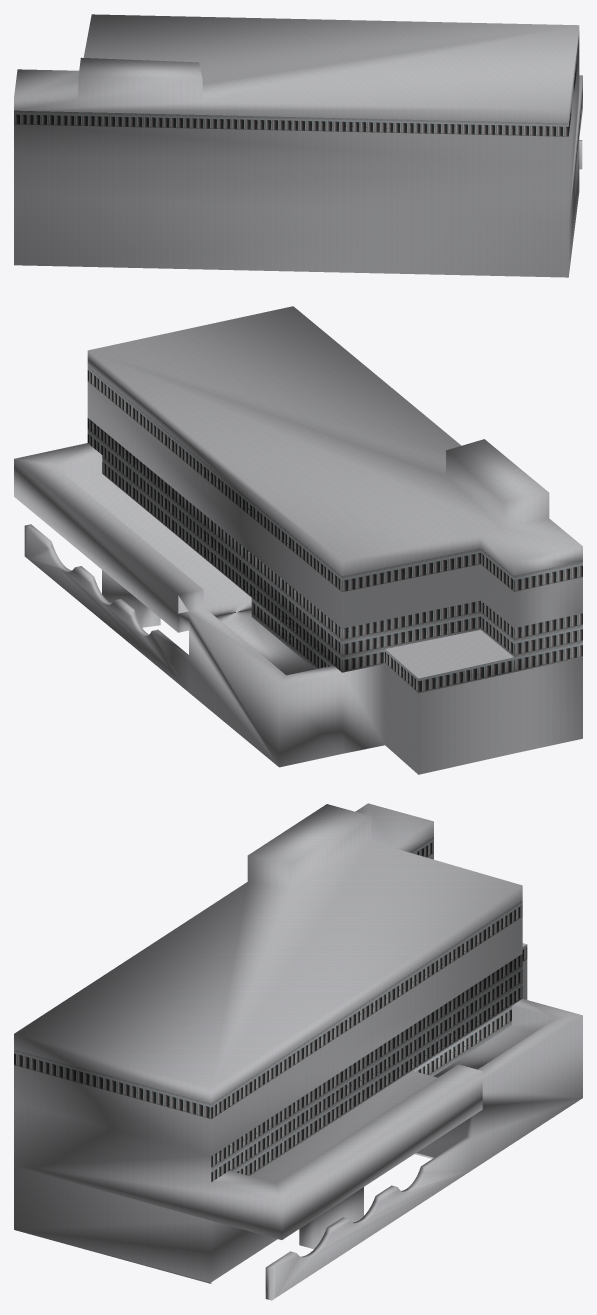
Rendered from General_Post_Office.dae.
3 views of the same model, one above another, from view 1: azimuth 30°, elevation 25°; view 2: azimuth 150°, elevation 25°; view 3: azimuth 270°, elevation 25° (orthographic). The views are drawn at different scales.
Visible parts, largest first — view 1: _Gray6_, Metal_Steel_Textured_; view 2: _Gray6_, Metal_Steel_Textured_; view 3: _Gray6_, Metal_Steel_Textured_.
Boxes of the visible parts, x1,y1,x2,y2 form: _Gray6_: (14, 14, 582, 277); Metal_Steel_Textured_: (14, 39, 579, 136); _Gray6_: (14, 306, 582, 774); Metal_Steel_Textured_: (87, 366, 582, 693); _Gray6_: (14, 803, 582, 1300); Metal_Steel_Textured_: (14, 837, 527, 1181).
Bounding box in the file's own units: 90.41 × 71.51 × 30.82.
2 materials, 2 textured.
